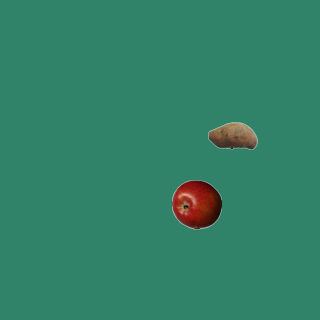Apple Braeburn: (171, 179, 221, 229)
Potato Sweet: (207, 110, 257, 160)
